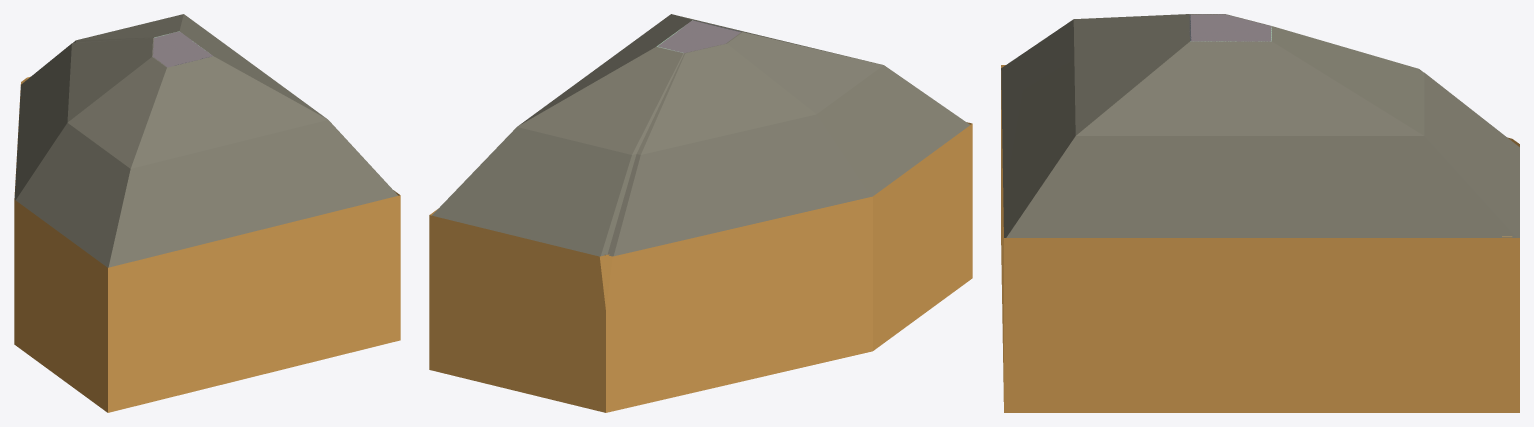
Rendered from renkliSahne002.fbx.
3 views of the same model, side by side, from view 1: azimuth 30°, elevation 25°; view 2: azimuth 150°, elevation 25°; view 3: azimuth 270°, elevation 25° (orthographic). The views are drawn at different scales.
Visible parts, largest first — view 1: Cati, Studyo; view 2: Studyo, Cati; view 3: Cati, Studyo.
Boxes of the visible parts, box(x1,y1,x2,y2) form: Cati: box(14, 14, 398, 267); Studyo: box(14, 76, 400, 412); Studyo: box(429, 122, 972, 412); Cati: box(432, 14, 969, 256); Cati: box(1001, 14, 1519, 237); Studyo: box(1001, 65, 1519, 412).
Bounding box in the file's own units: 1885 × 1580 × 2390.
